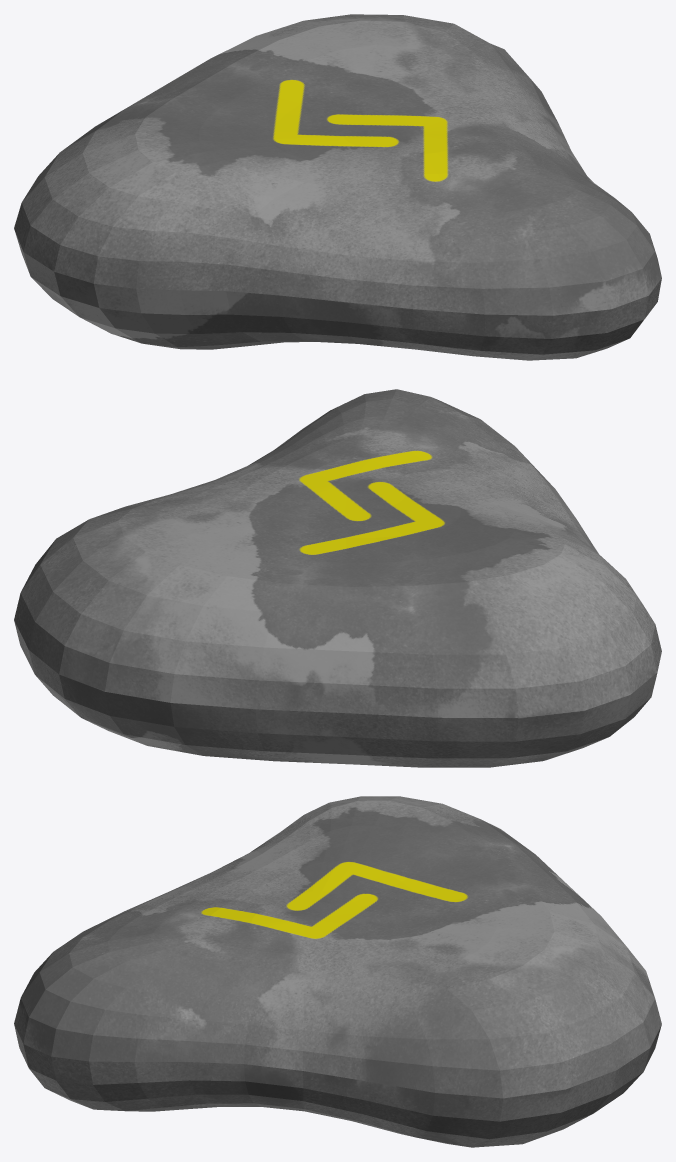
Rendered from Runestone.fbx.
3 renders of one model, top to bottom at view 1: azimuth 30°, elevation 25°; view 2: azimuth 150°, elevation 25°; view 3: azimuth 270°, elevation 25°, orthographic. The views are drawn at different scales.
Visible parts, largest first — view 1: Stone; view 2: Stone; view 3: Stone.
Boxes of the visible parts, x1,y1,x2,y2 form: Stone: (14,14,661,360); Stone: (14,389,661,767); Stone: (14,796,661,1147).
Size of the model in its own units: 32.24 by 10.49 by 34.25.
Materials: 1 (1 with a texture image).
